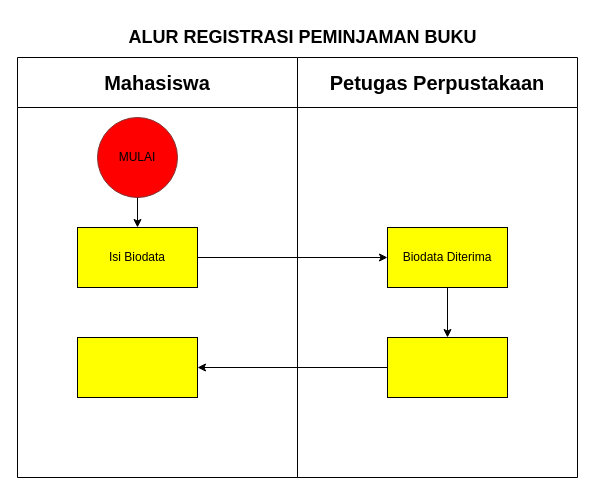
This 595x495 diagram has some shape labels left out. The shapes that lost their labels are listed below. From the top down, each one's centre as x and y in pixels, then its label:
the point at 137,367: Menerima Kartu Anggota
the point at 447,367: Serah Kartu Anggota
